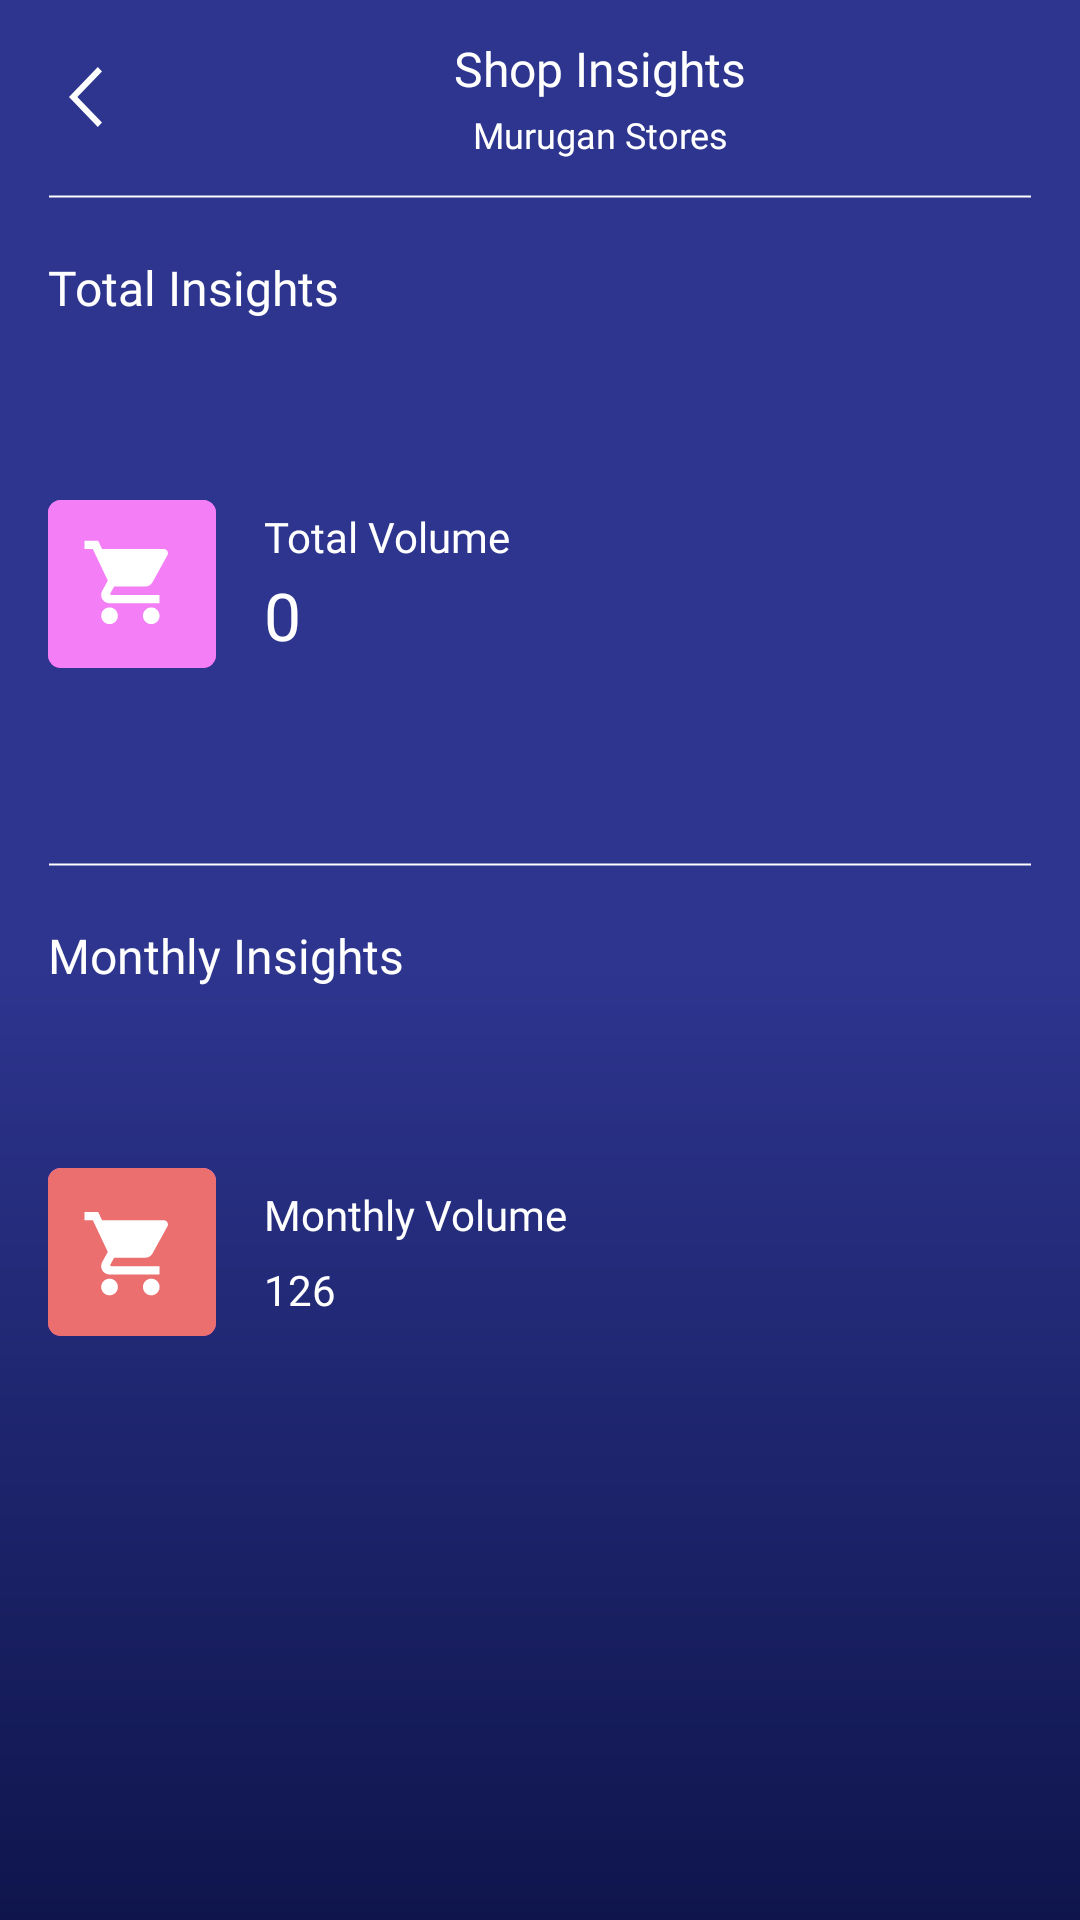

Screen size 1080w x 1920h. Icon name, then its box in pixels as (x1, y1, x2, y2):
back: (69, 67, 102, 127)
